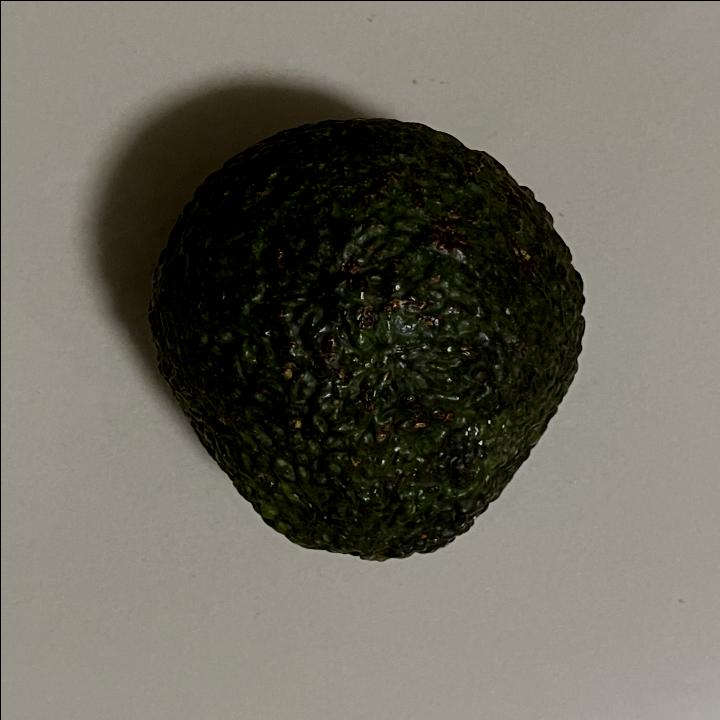Level1: (138, 100, 599, 578)
